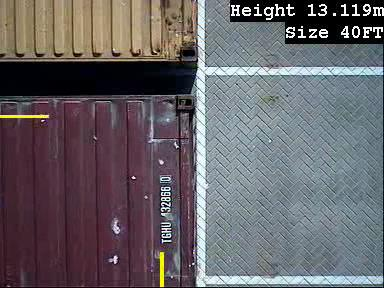groundmarker_2: (195, 41, 238, 96)
